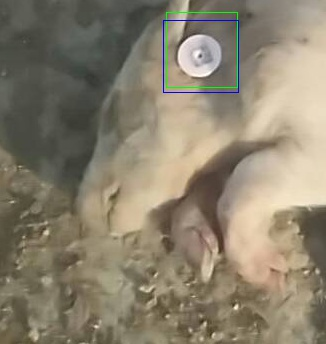text: (166, 12, 237, 87)
